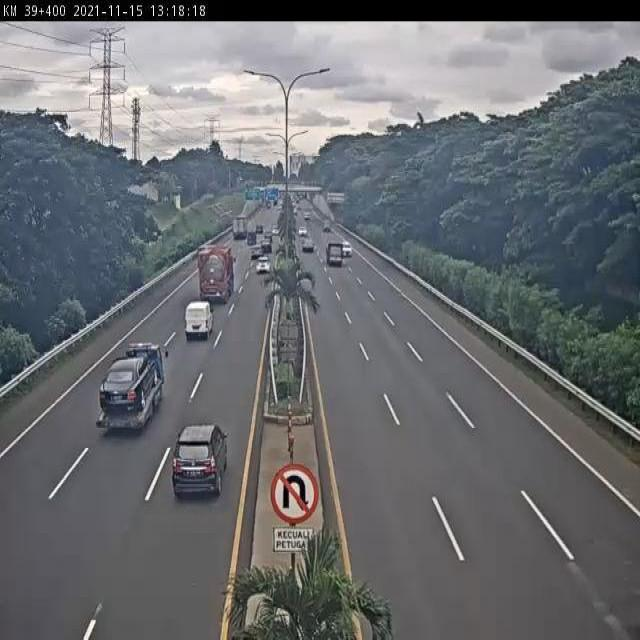bus-s-: (184, 300, 215, 340)
car: (169, 423, 230, 500)
truck-m-: (95, 343, 165, 432)
truck-xl-: (199, 246, 235, 306)
